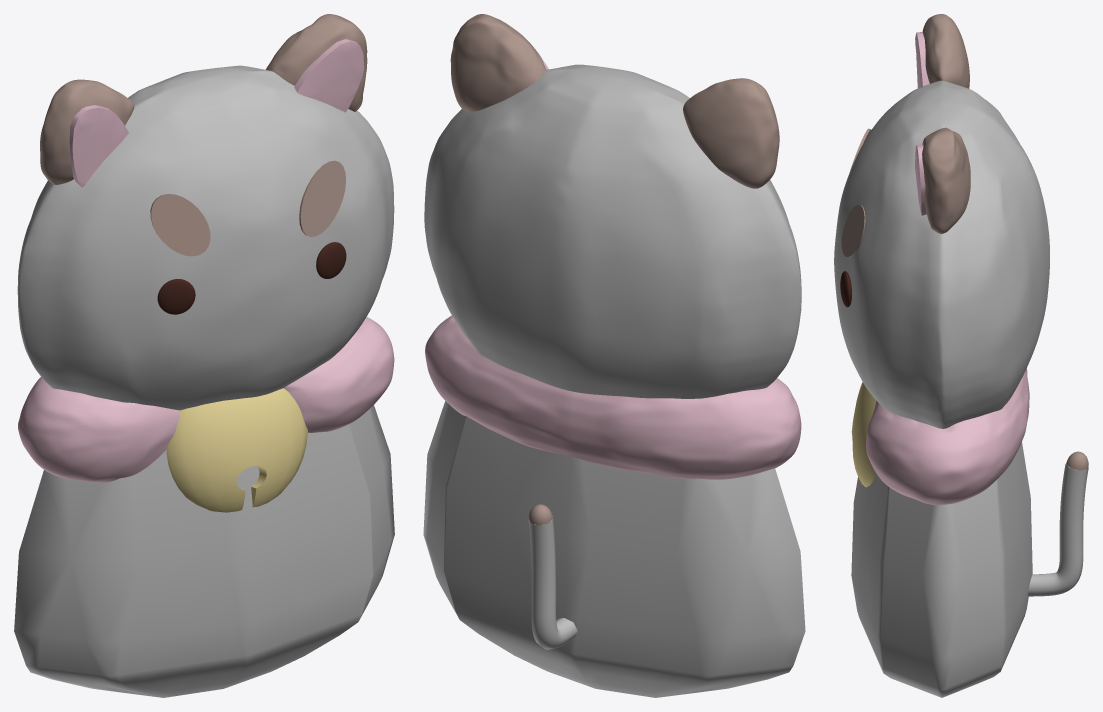
Rendered from puppycatWIP2.glb.
The picture shows the model from 3 angles, left to right: view 1: azimuth 30°, elevation 25°; view 2: azimuth 150°, elevation 25°; view 3: azimuth 270°, elevation 25°; orthographic projection. The views are drawn at different scales.
Visible parts, largest first — view 1: body2, pTorus1, bell1; view 2: body2, pTorus1; view 3: body2, pTorus1, bell1.
Boxes of the visible parts, left/top/right/bottom form: body2: left=14, top=14, right=394, bottom=697; pTorus1: left=18, top=317, right=394, bottom=482; bell1: left=166, top=388, right=307, bottom=512; body2: left=423, top=14, right=805, bottom=697; pTorus1: left=425, top=315, right=801, bottom=479; body2: left=834, top=14, right=1088, bottom=697; pTorus1: left=866, top=368, right=1029, bottom=505; bell1: left=851, top=382, right=875, bottom=487.
Bounding box in the file's own units: 0.0425 × 0.0678 × 0.0263.
